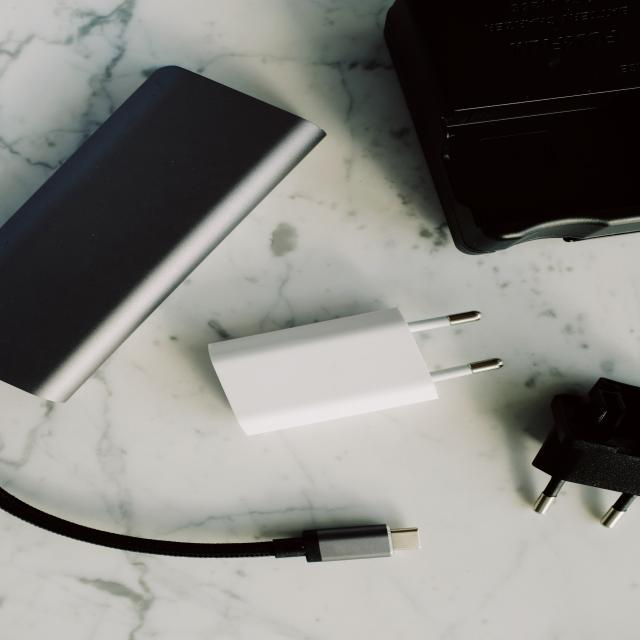battery charger: (204, 298, 488, 454), (194, 489, 461, 593), (524, 362, 640, 545)
